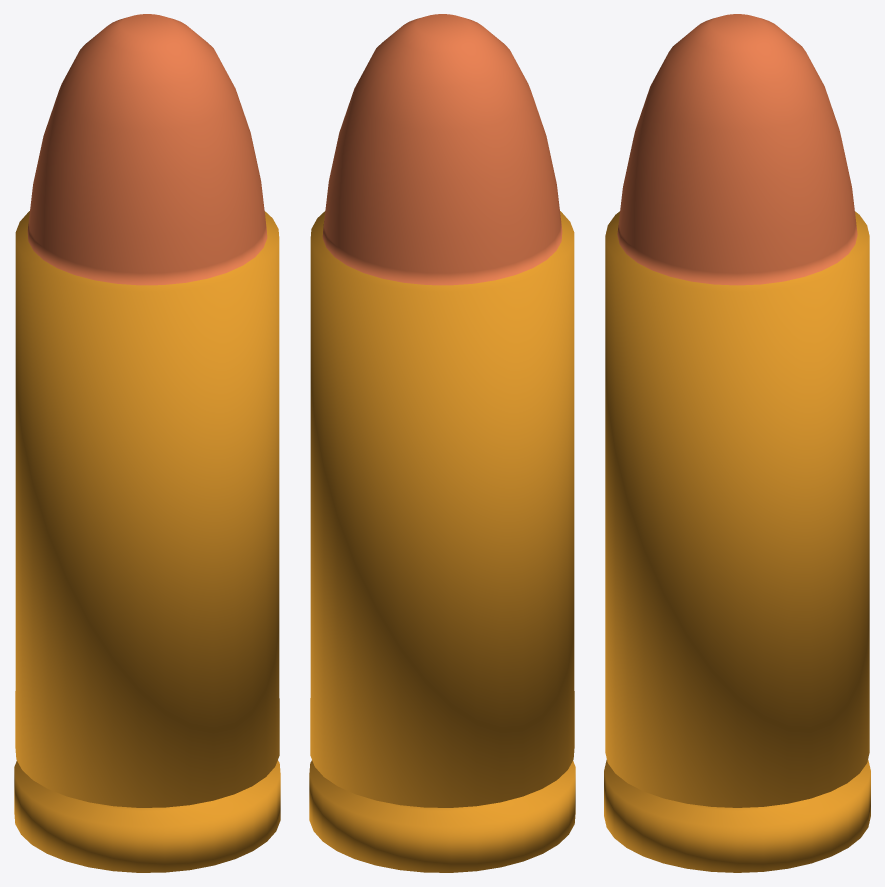
Rendered from revAmmo.fbx.
3 views of the same model, side by side, from view 1: azimuth 30°, elevation 25°; view 2: azimuth 150°, elevation 25°; view 3: azimuth 270°, elevation 25° (orthographic).
Parts seen in each view (by area): view 1: Bullet; view 2: Bullet; view 3: Bullet.
Part boxes in pixels (x1=…): Bullet: x1=14, y1=14, x2=280, y2=872; Bullet: x1=309, y1=14, x2=575, y2=872; Bullet: x1=604, y1=14, x2=870, y2=872.
Size of the model in its own units: 94.26 by 308 by 94.26.
